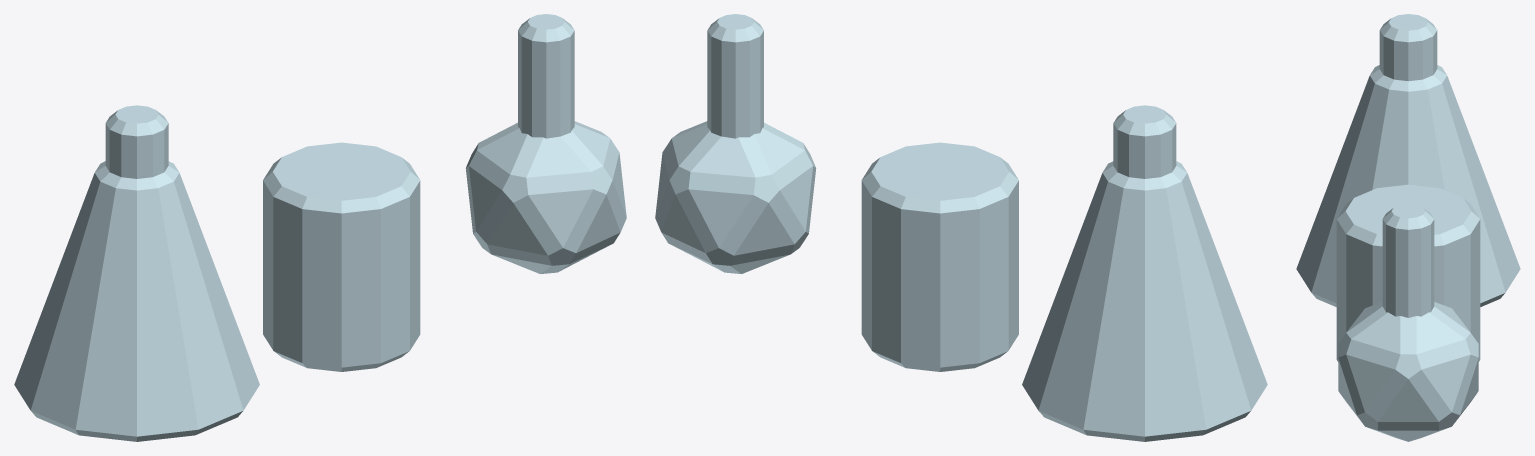
Rendered from SM_Flask_Set.fbx.
3 views of the same model, side by side, from view 1: azimuth 30°, elevation 25°; view 2: azimuth 150°, elevation 25°; view 3: azimuth 270°, elevation 25° (orthographic). The views are drawn at different scales.
Visible parts, largest first — view 1: Flask_Set; view 2: Flask_Set; view 3: Flask_Set.
Part boxes in pixels (x1,y1,x2,y2): Flask_Set: (14,14,626,441); Flask_Set: (655,14,1267,441); Flask_Set: (1296,14,1520,441).
Size of the model in its own units: 42.95 by 19.5 by 15.61.
